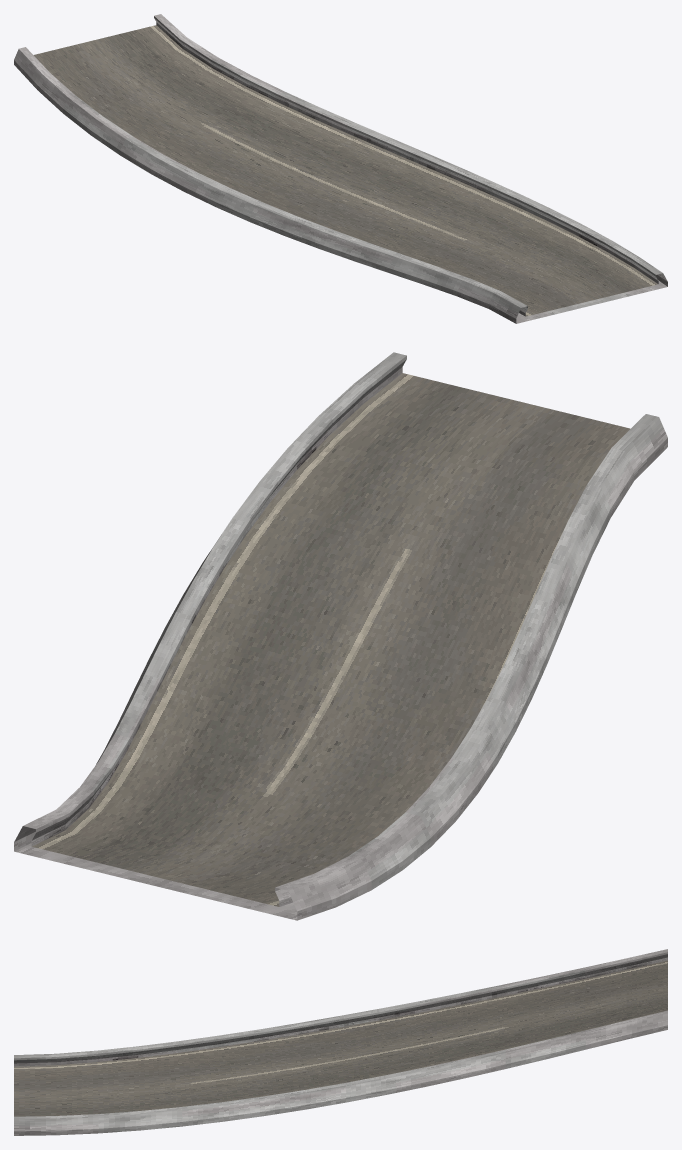
The model's file is chicane-left1x4.glb.
3 views of the same model, one above another, from view 1: azimuth 30°, elevation 25°; view 2: azimuth 150°, elevation 25°; view 3: azimuth 270°, elevation 25° (orthographic). The views are drawn at different scales.
Visible parts, largest first — view 1: road-Chicane-Flat-BiSlopeUp-Up1-Left1-Size4; view 2: road-Chicane-Flat-BiSlopeUp-Up1-Left1-Size4; view 3: road-Chicane-Flat-BiSlopeUp-Up1-Left1-Size4.
Part boxes in pixels (x1,y1,x2,y2): road-Chicane-Flat-BiSlopeUp-Up1-Left1-Size4: (14, 14, 667, 323); road-Chicane-Flat-BiSlopeUp-Up1-Left1-Size4: (14, 352, 667, 920); road-Chicane-Flat-BiSlopeUp-Up1-Left1-Size4: (14, 949, 667, 1135).
Bounding box in the file's own units: 2 × 0.373 × 4.
Materials: 2 (2 with a texture image).
